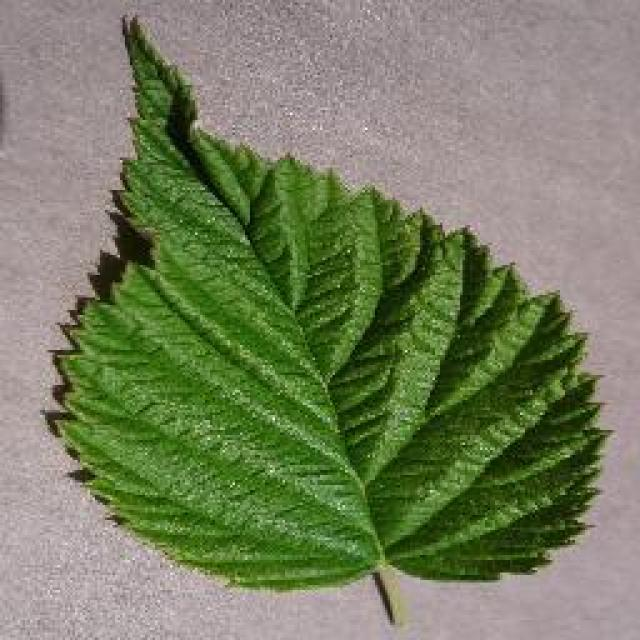Ras_healthy: (74, 148, 562, 576)
